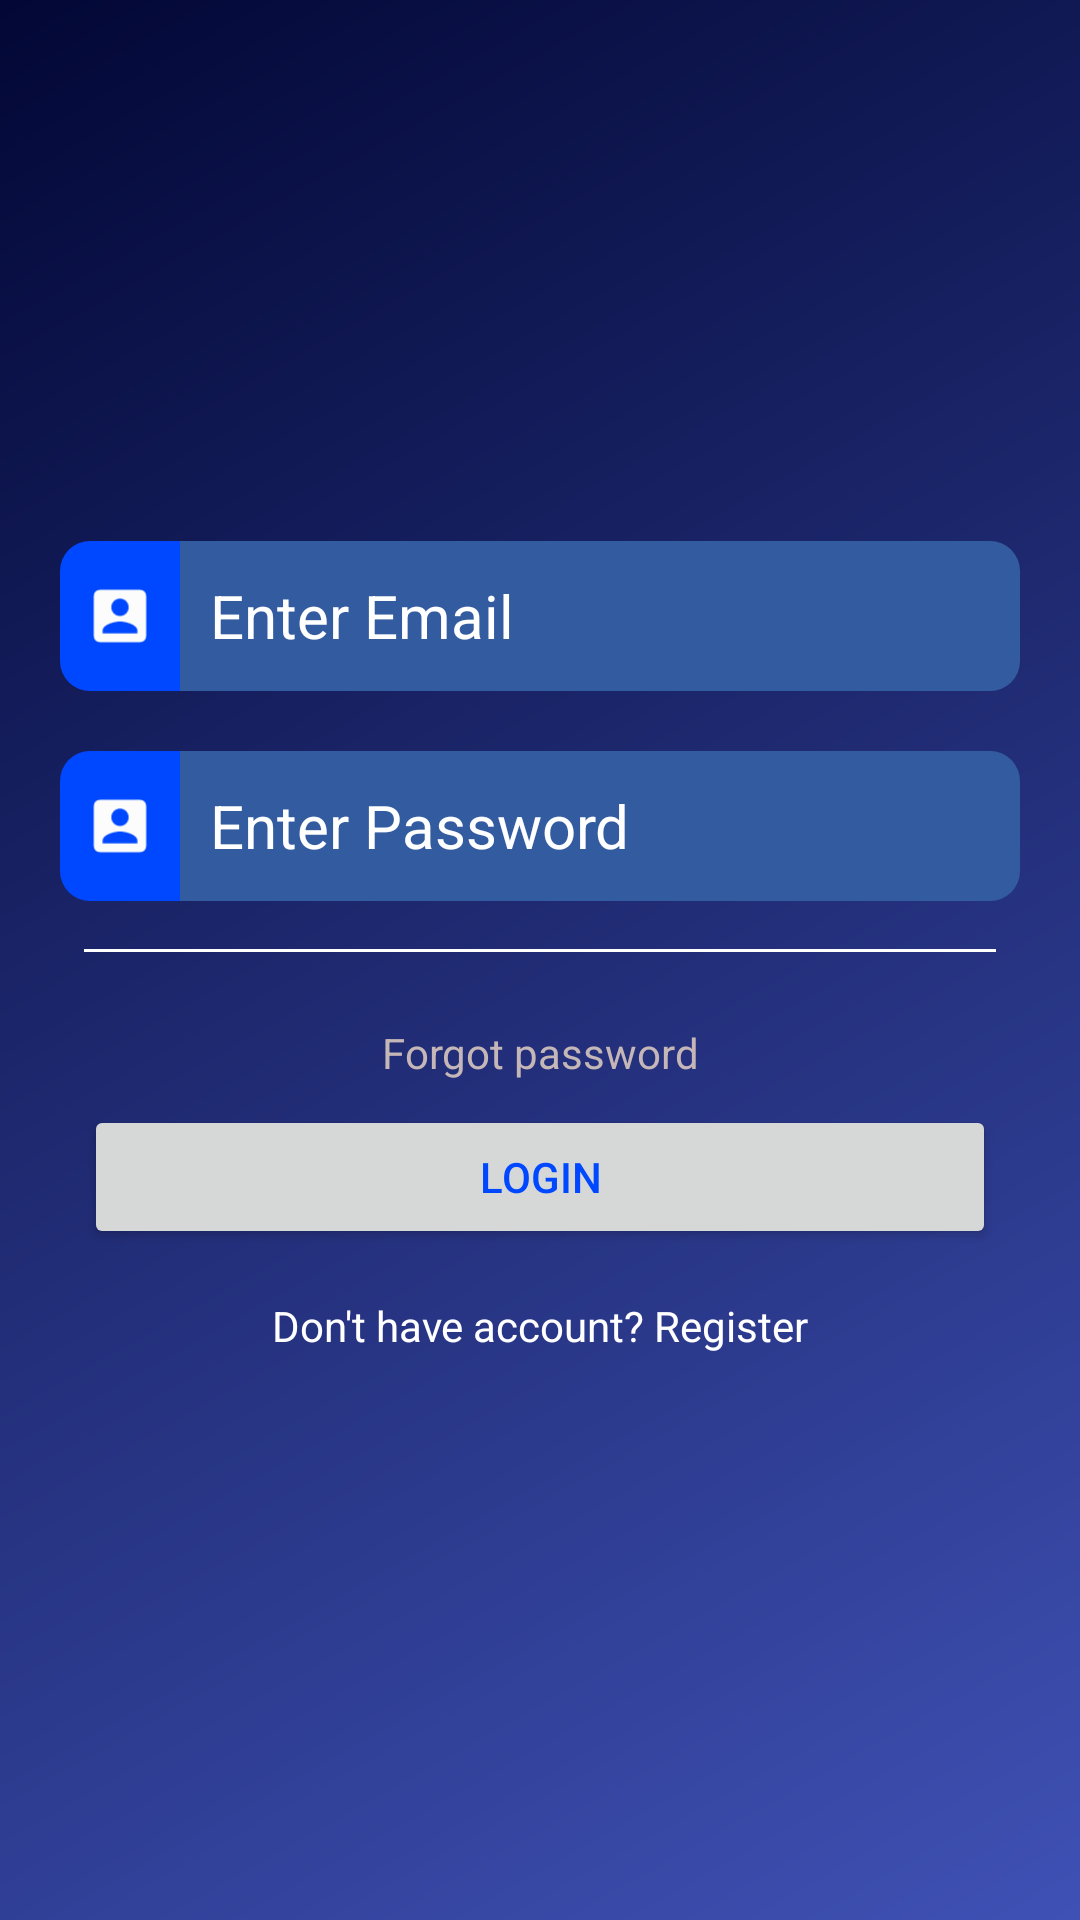

Locate icon controls on the screen. Image size 1080px×1920px, boxes as (x1,y1,x2,y2).
user: (60,541,180,691), (60,751,180,901)
